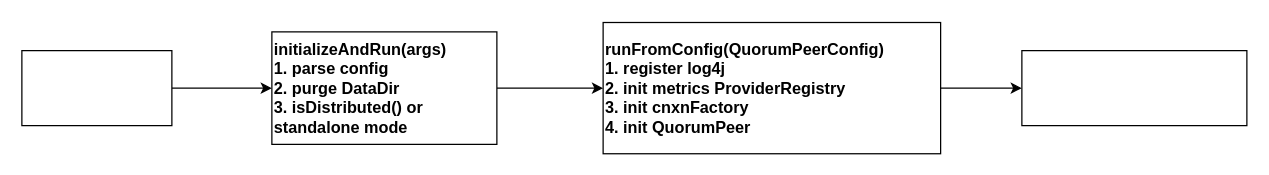
This 1269x175 diagram has some shape labels left out. The shapes that lost their labels are listed below. From the top down, each one's centre as x and y in pixels, then its label:
At [96,87]: "QuorumPeerMain".
At [1134,87]: "QuorumPeer extends Thread".
